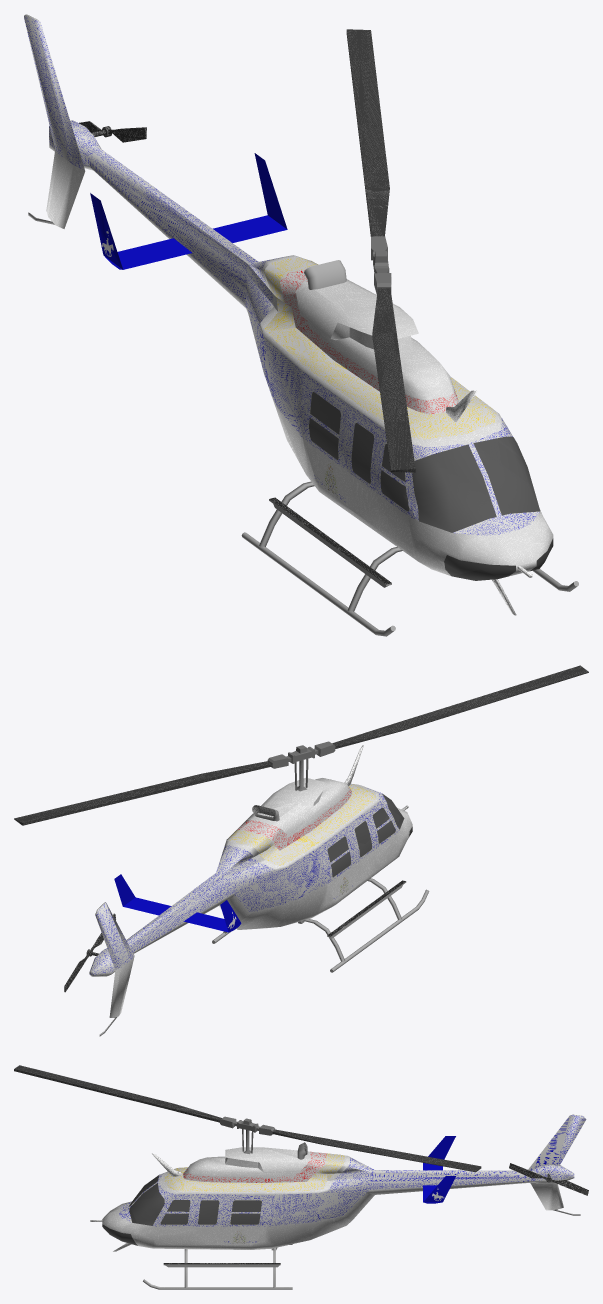
File: bell_206l.dae
The picture shows the model from 3 angles, top to bottom: view 1: azimuth 30°, elevation 25°; view 2: azimuth 150°, elevation 25°; view 3: azimuth 270°, elevation 25°; orthographic projection. The views are drawn at different scales.
Parts seen in each view (by area): view 1: Group_6 (×11), Blade (×2), group_5 (×2), Group_5 (×2), group_9, group_8; view 2: Group_6 (×6), Blade (×2), group_5 (×2), Group_5 (×2), group_8, group_9; view 3: Group_6 (×11), Blade (×2), group_5 (×2), Group_5 (×2), group_8, group_9, group_10.
Part boxes in pixels (left/top/right/bottom): Group_6 (×11): left=49, top=120, right=553, bottom=580; Blade (×2): left=346, top=29, right=415, bottom=472; group_5 (×2): left=24, top=15, right=84, bottom=228; Group_5 (×2): left=90, top=153, right=287, bottom=269; group_9: left=241, top=532, right=395, bottom=636; group_8: left=371, top=236, right=391, bottom=294; Group_6 (×6): left=89, top=778, right=412, bottom=976; Blade (×2): left=14, top=665, right=588, bottom=825; group_5 (×2): left=95, top=902, right=134, bottom=1017; Group_5 (×2): left=114, top=874, right=241, bottom=932; group_8: left=267, top=741, right=335, bottom=768; group_9: left=330, top=889, right=429, bottom=972; Group_6 (×11): left=102, top=1147, right=574, bottom=1249; Blade (×2): left=14, top=1065, right=481, bottom=1172; group_5 (×2): left=528, top=1115, right=586, bottom=1210; Group_5 (×2): left=423, top=1136, right=455, bottom=1203; group_8: left=220, top=1116, right=275, bottom=1135; group_9: left=143, top=1279, right=292, bottom=1289; group_10: left=163, top=1264, right=280, bottom=1267.
Size of the model in its own units: 214 by 488 by 140.
